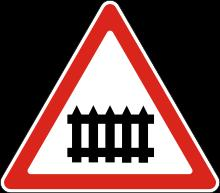Barrier Ahead: (10, 9, 210, 186)
